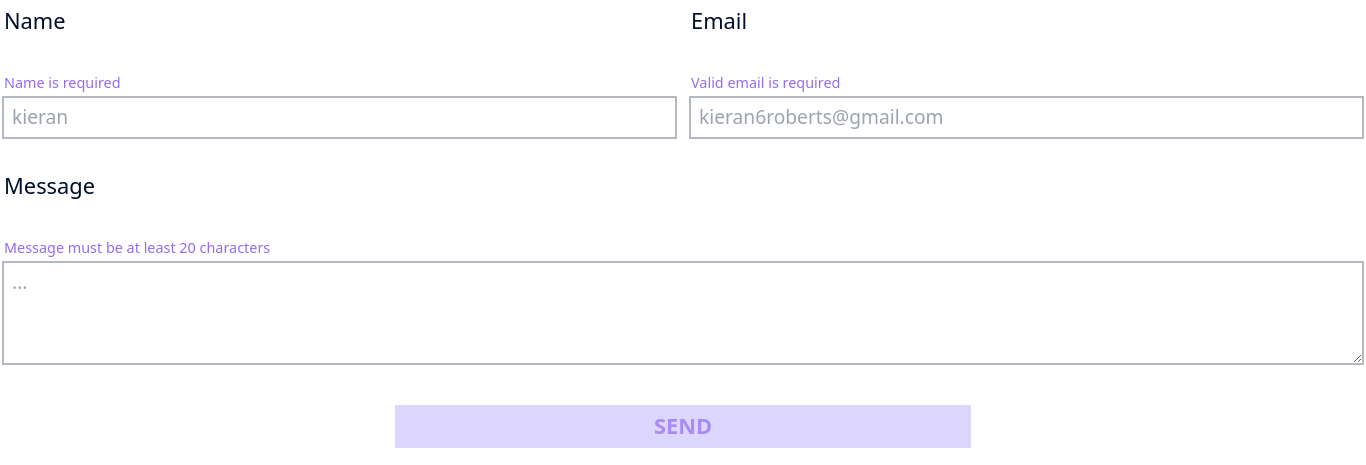
Test case: <Button /> › user input
Type "Kieran" into the field labelled "Name Name is required" at [340, 117], box [4,98,675,137]
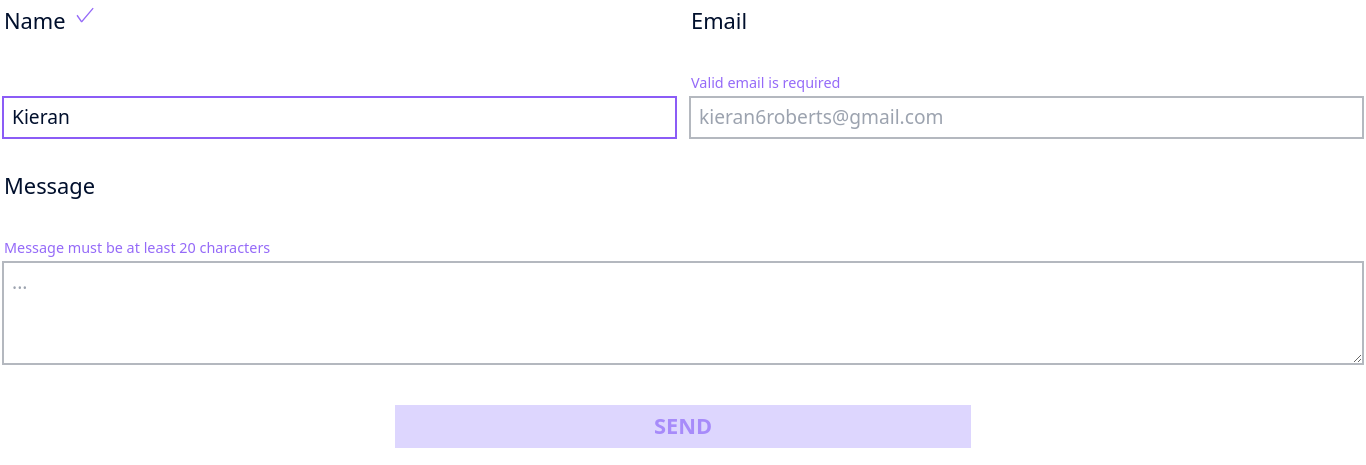
Expected: the button showing "send" is disabled, [395,405,971,448]
Type "kieran@test.com" into the field labelled "Email Valid email is required" at [1026, 117], box [691,98,1362,137]
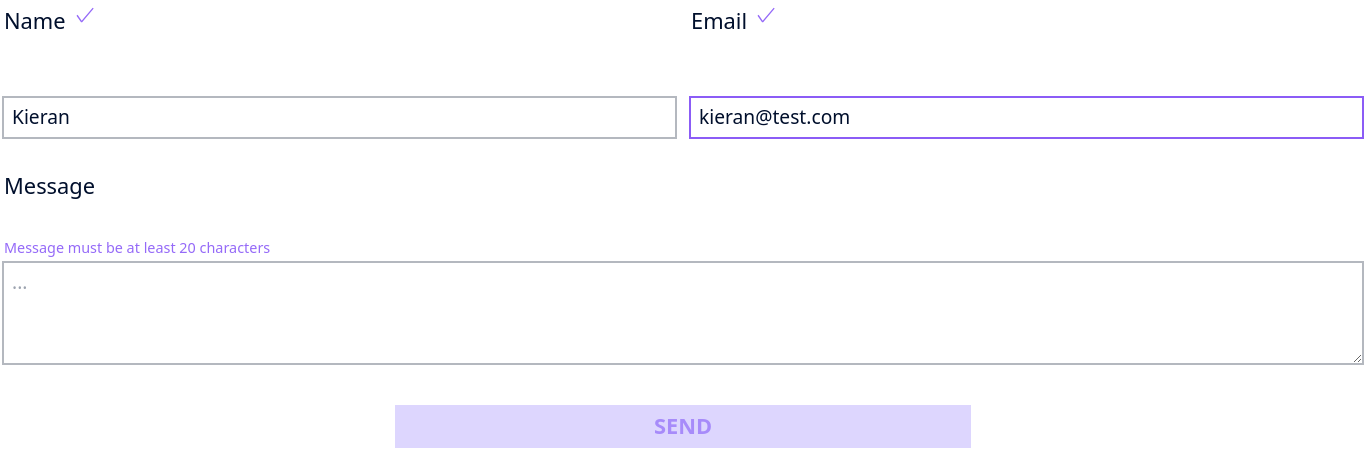
Expected: the button showing "send" is disabled, [395,405,971,448]
Type "test message!" into the text box labelled "Message Message must be at least 20 characters" at [683, 313], box [4,263,1362,363]
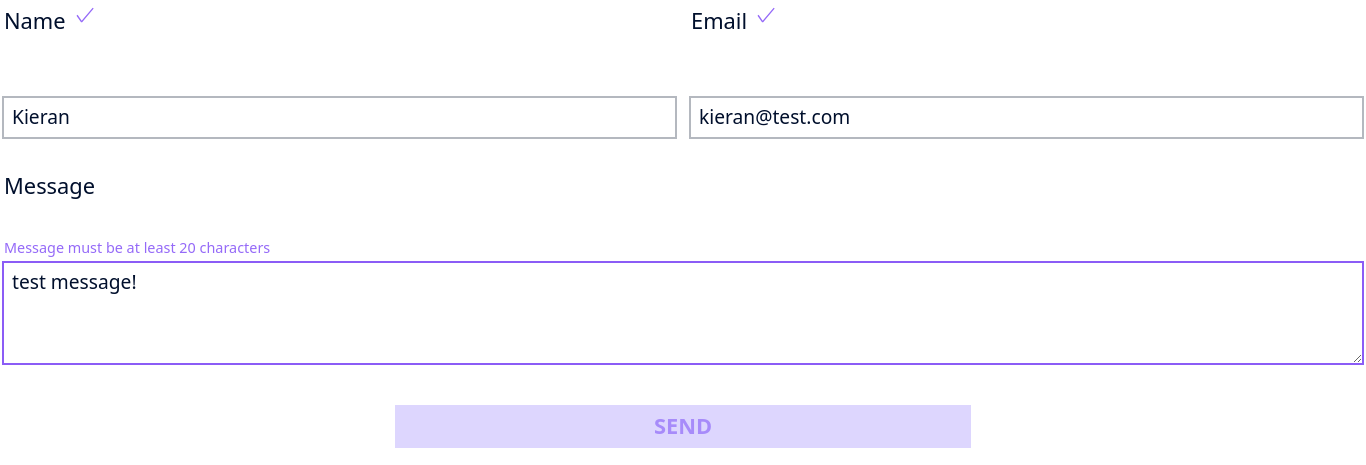
Expected: the button showing "send" is disabled, [395,405,971,448]
Type "this is a passing test message!" into the text box labelled "Message Message must be at least 20 characters" at [683, 313], box [4,263,1362,363]
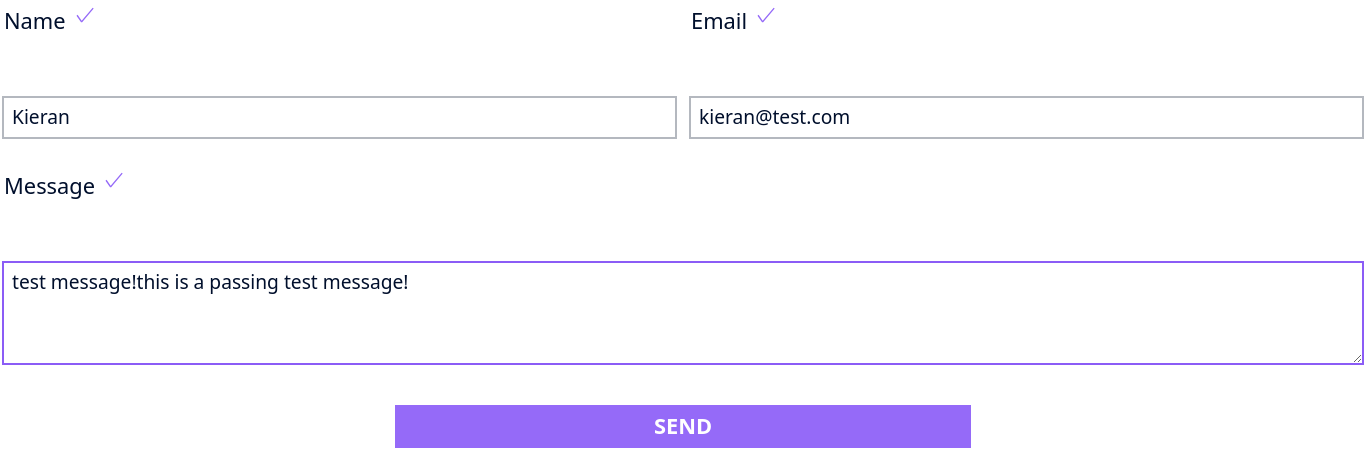
Expected: the button showing "send" is enabled, [395,405,971,448]
